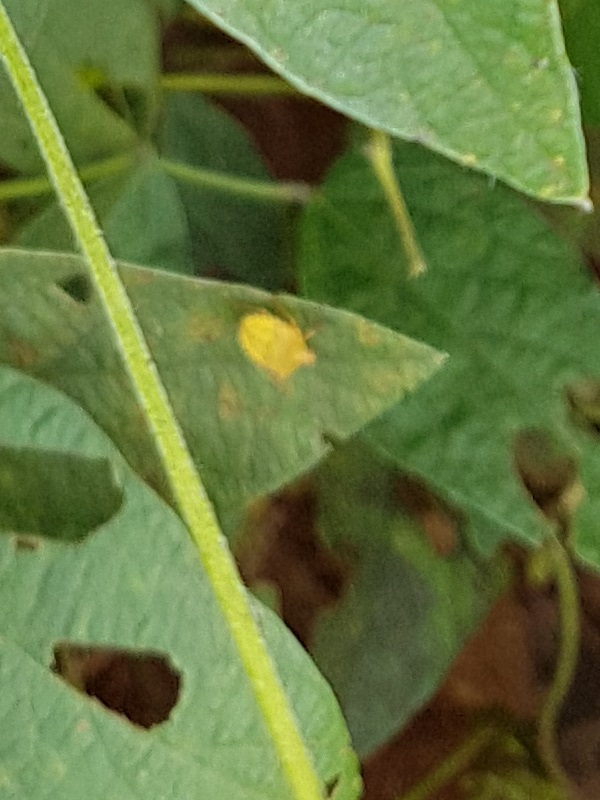Euschistus_heros_ninfa: (221, 301, 327, 397)
